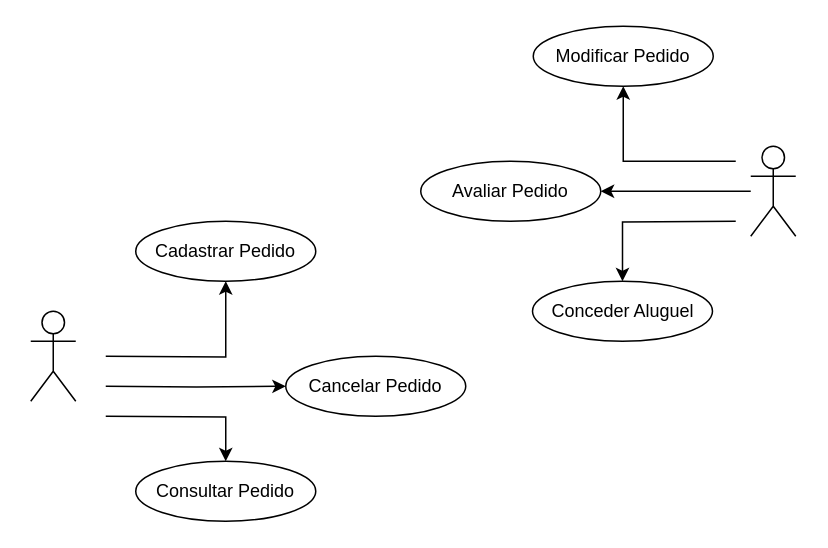
Some shapes in this 828 by 548 pixel diagram are drawn without their labels. The shapes that lost their labels are listed below. From the top down, each one's centre as x and y in pixels, then its label:
pixel 772 190: Agente
pixel 52 355: Cliente
